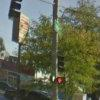Traffic light: (46, 44, 73, 86)
